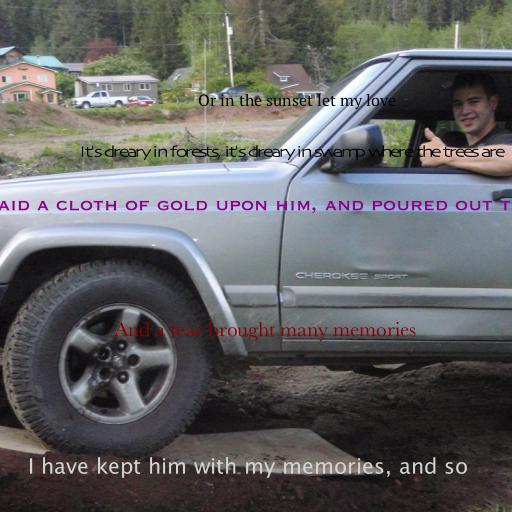Baskerville: (114, 321, 416, 342)
Copperplate: (0, 199, 512, 214)
Lucida Grande: (28, 457, 468, 478)
PT Serif: (198, 93, 396, 110)
Skia: (79, 145, 503, 161)
